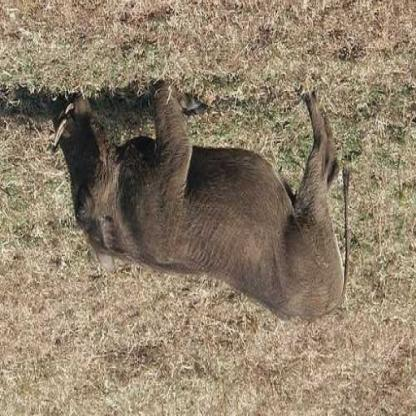boar: (0, 92, 386, 355)
